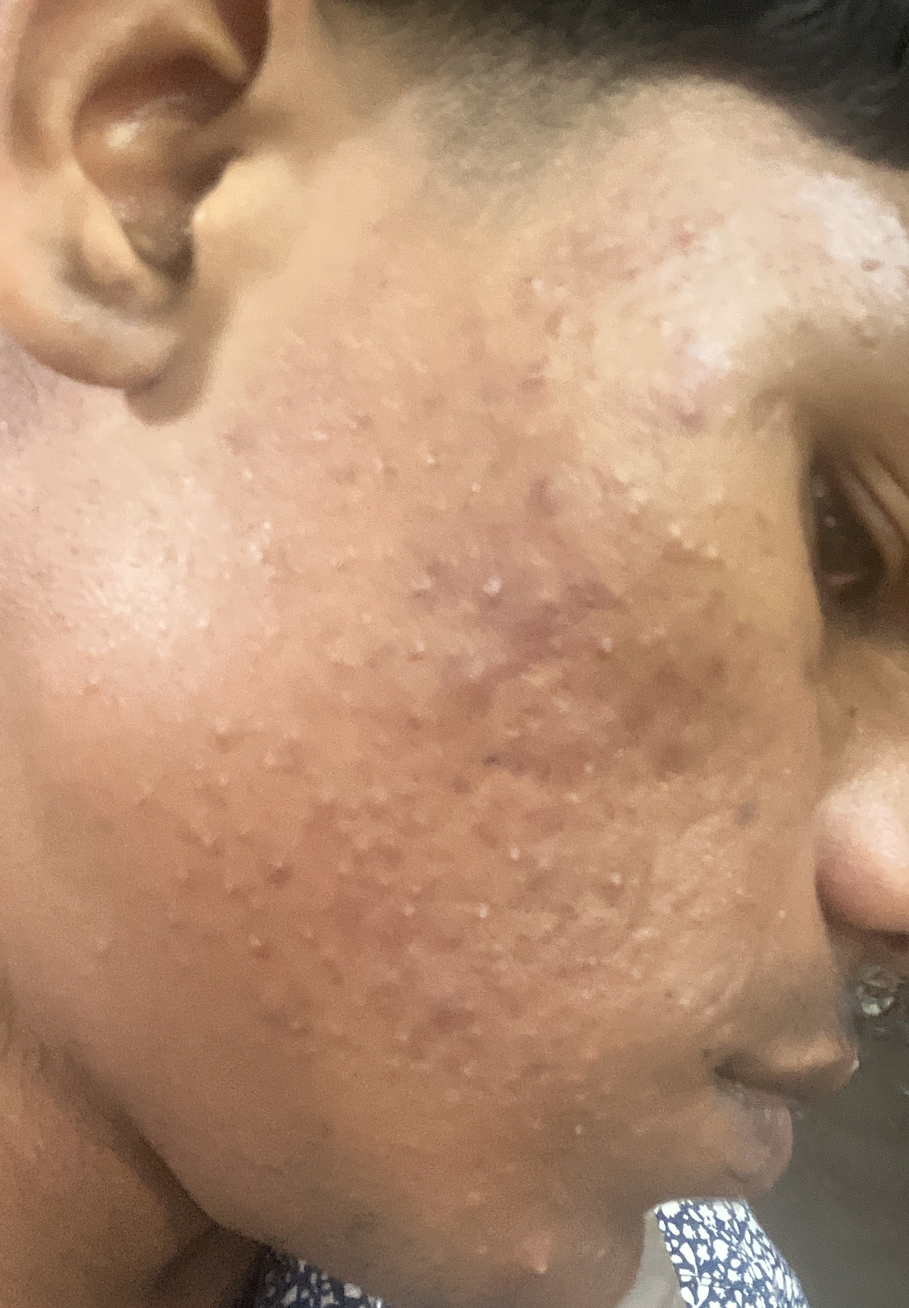papule: (510, 257, 592, 345), (255, 745, 346, 812), (233, 535, 320, 598), (656, 190, 721, 272), (553, 1027, 624, 1096), (244, 846, 335, 898), (236, 935, 328, 986), (419, 436, 479, 514), (589, 619, 658, 684), (661, 512, 719, 585), (389, 619, 466, 671), (197, 704, 246, 768), (449, 1038, 492, 1094), (296, 417, 365, 451), (180, 829, 238, 868), (589, 861, 646, 900)
pustule: (512, 1217, 596, 1293), (656, 371, 725, 458), (479, 837, 579, 881), (466, 563, 520, 622), (466, 889, 505, 930)
